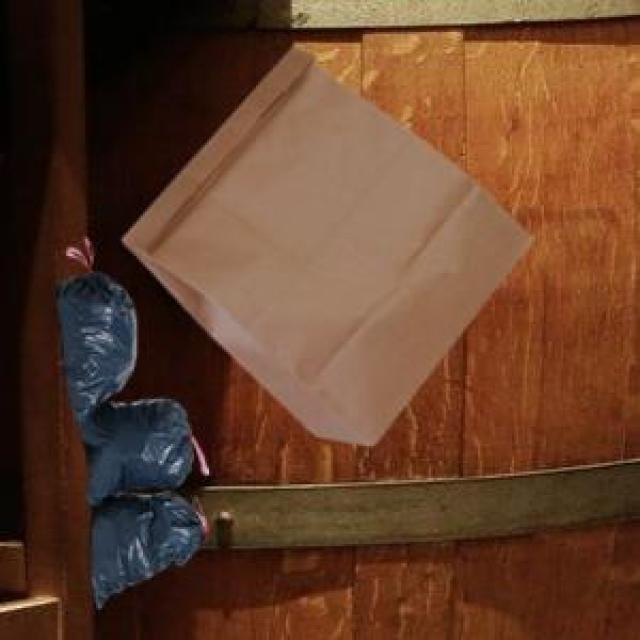miscellaneous trash: (51, 267, 204, 604)
paper: (120, 43, 527, 442)
